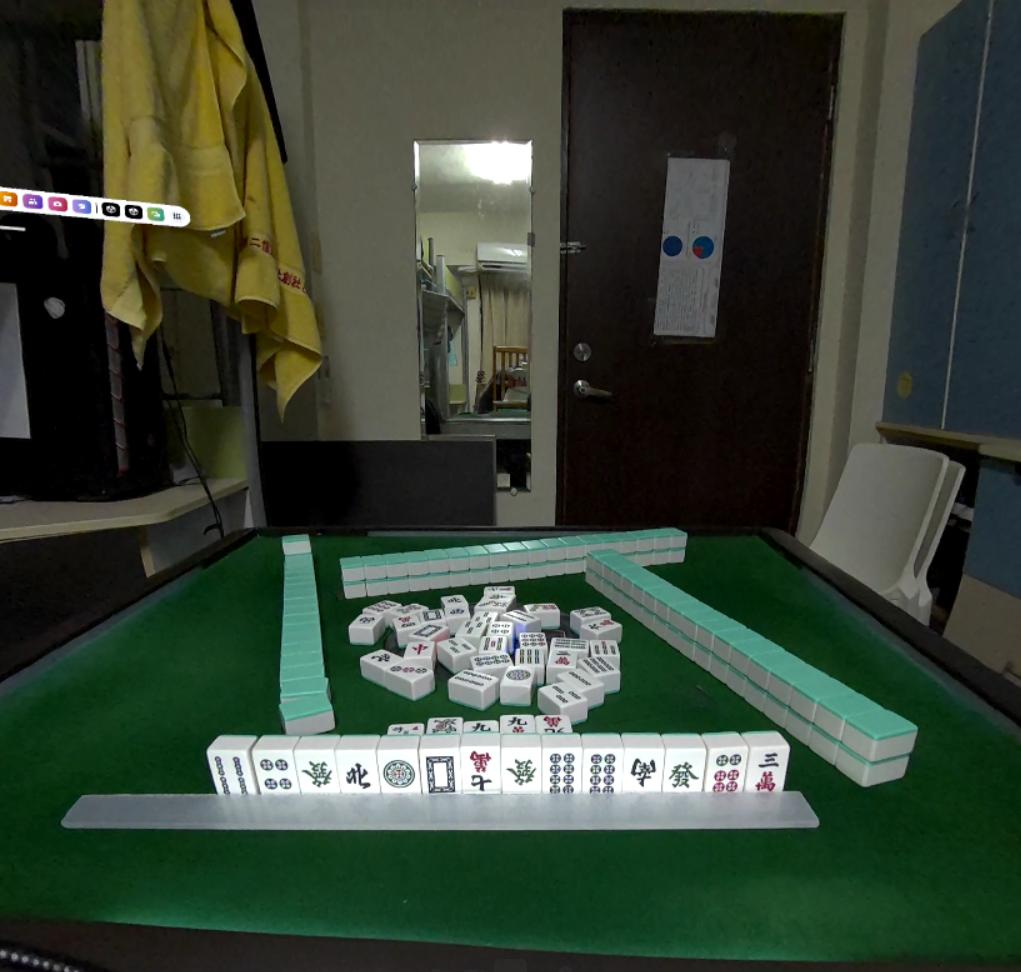mahjong: (747, 742, 795, 803), (703, 745, 751, 803), (208, 745, 257, 797), (463, 737, 498, 800), (422, 752, 463, 805), (503, 750, 545, 801), (622, 745, 663, 797), (255, 740, 294, 793), (545, 747, 581, 803), (587, 747, 621, 803), (337, 750, 378, 795), (378, 750, 418, 796), (297, 750, 337, 793), (670, 749, 703, 797)
